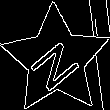N_NE: (25, 28, 87, 91)
